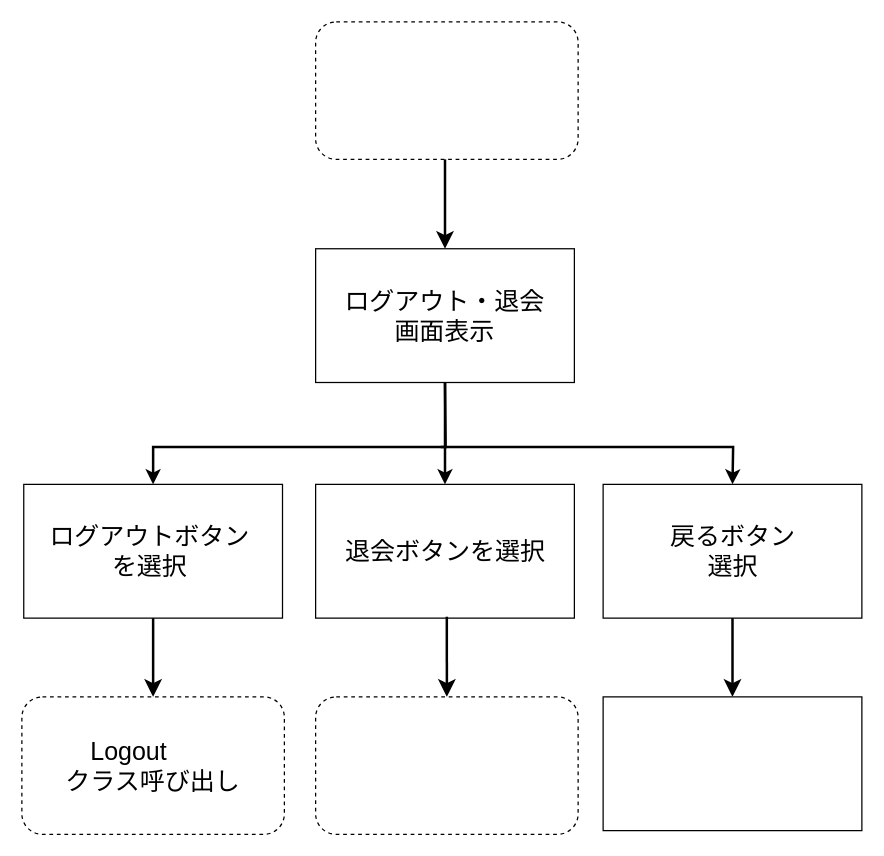
Some shapes in this 884 by 856 pixel diagram are drawn without their labels. Each missing label, with the centre of its shape:
LogoutWithdraw クラス呼び出し: [446,90]
Withdraw クラス呼び出し: [446,765]
前のパスに戻る: [732,763]
